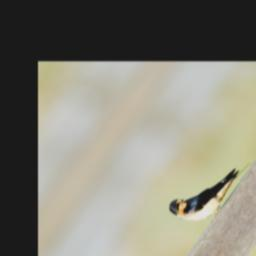Swallow: (164, 144, 256, 231)
